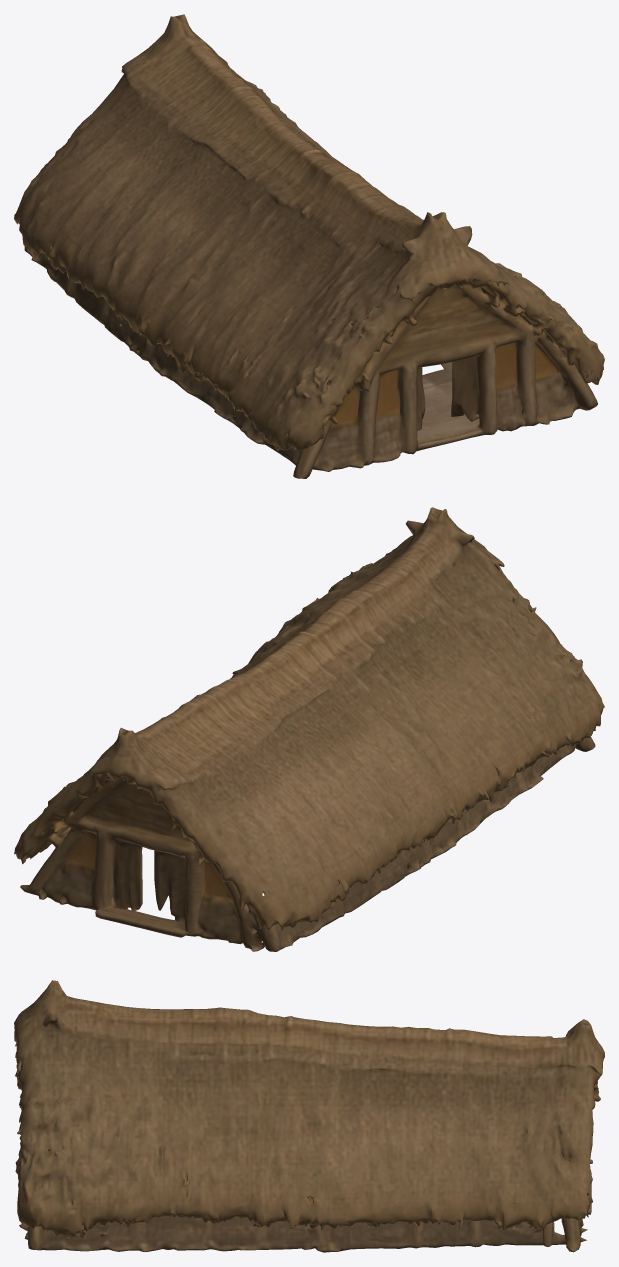
The model's file is peamaja.glb.
3 views of the same model, one above another, from view 1: azimuth 30°, elevation 25°; view 2: azimuth 150°, elevation 25°; view 3: azimuth 270°, elevation 25° (orthographic). The views are drawn at different scales.
Parts seen in each view (by area): view 1: world; view 2: world; view 3: world.
Boxes of the visible parts, box(x1,y1,x2,y2) form: world: box(14, 14, 604, 478); world: box(14, 507, 604, 951); world: box(14, 980, 604, 1252).
Size of the model in its own units: 0.5808 by 0.3853 by 0.9997.
Materials: 1 (1 with a texture image).
